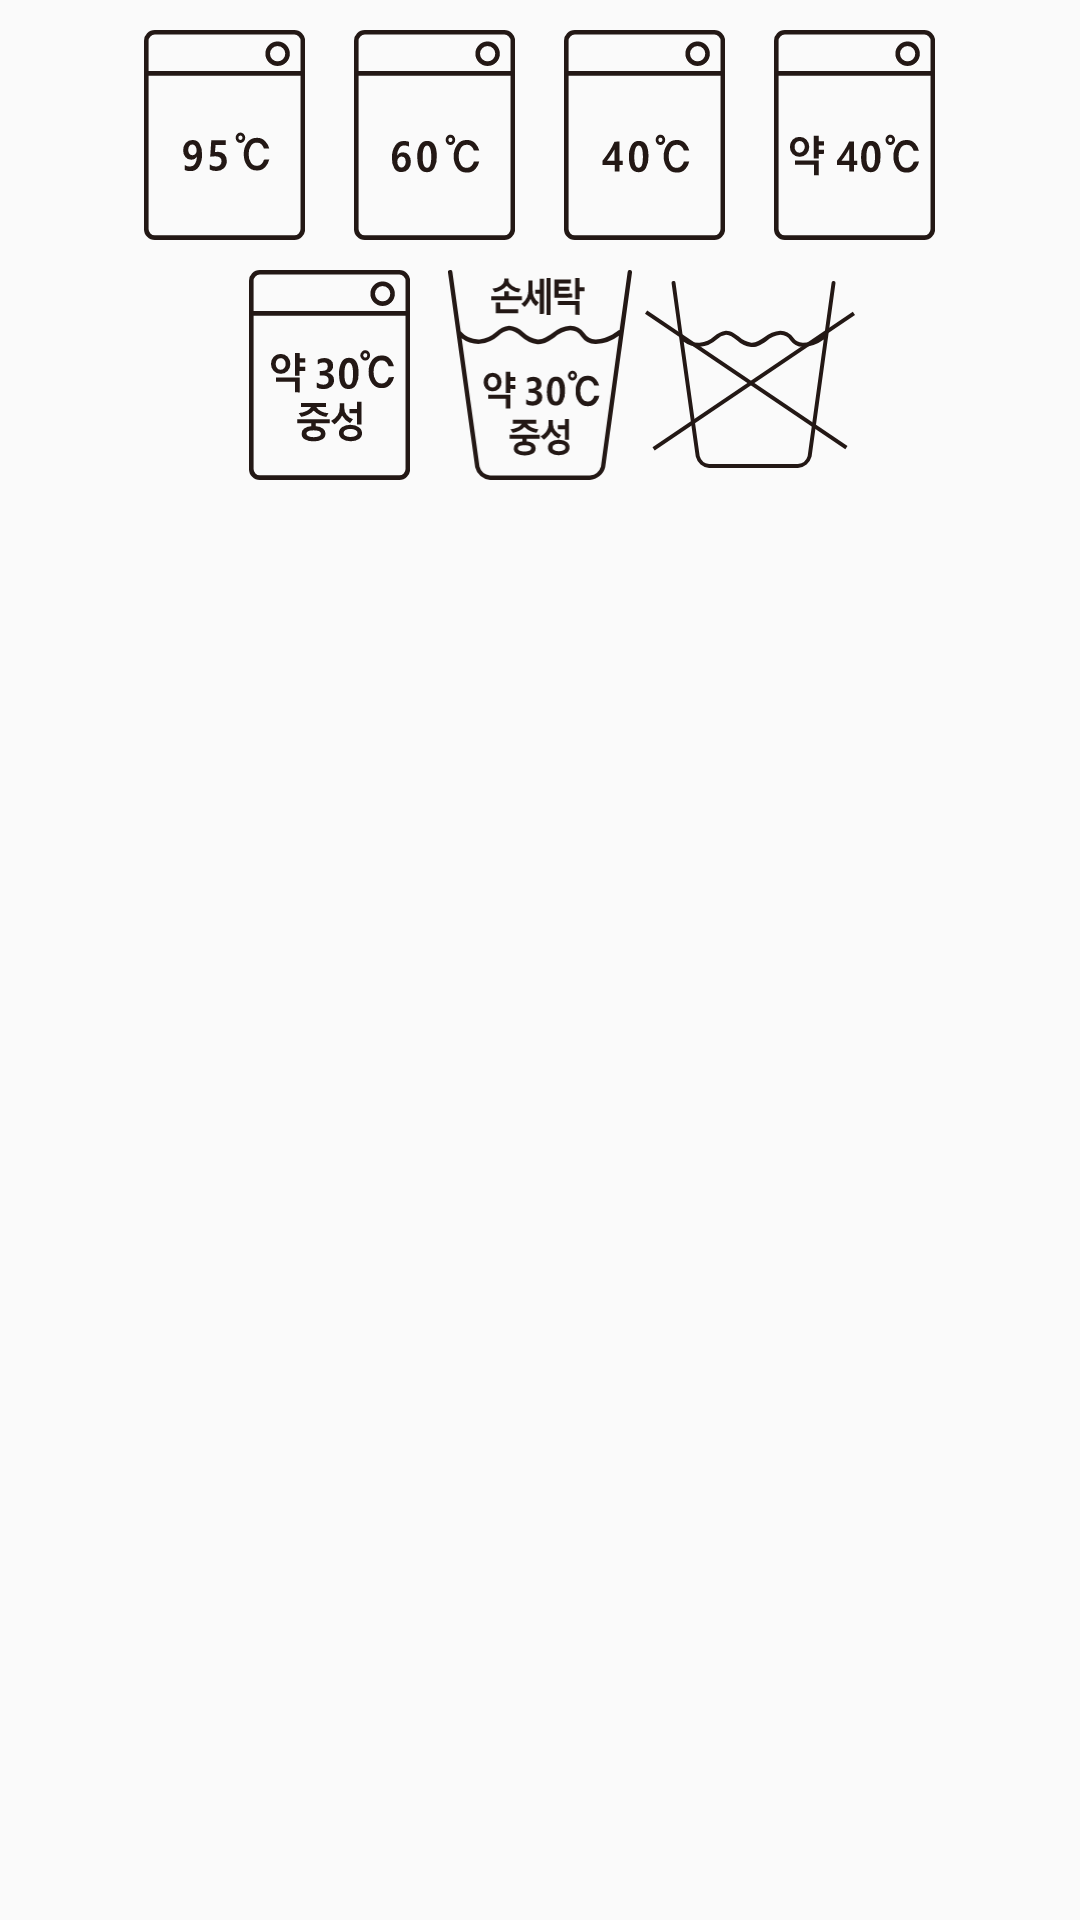

Screen size 1080 × 1920. Icon name, then its center in pixels as (x,y):
no water: (750,374)
